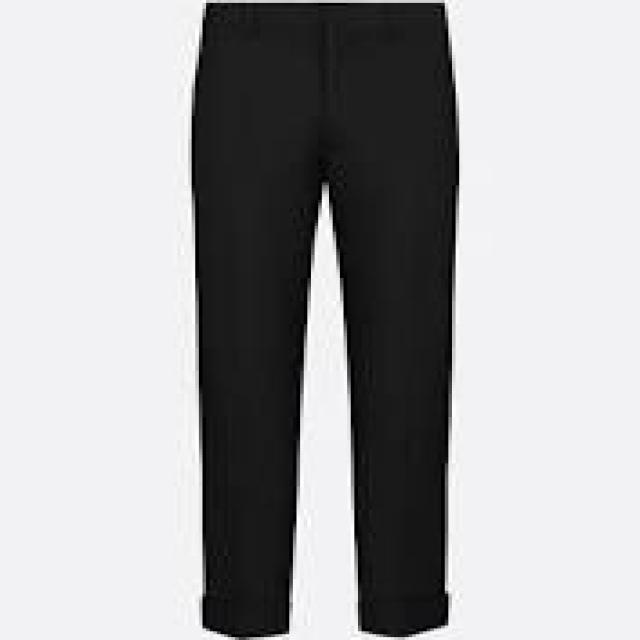long-pants: (185, 0, 459, 640)
